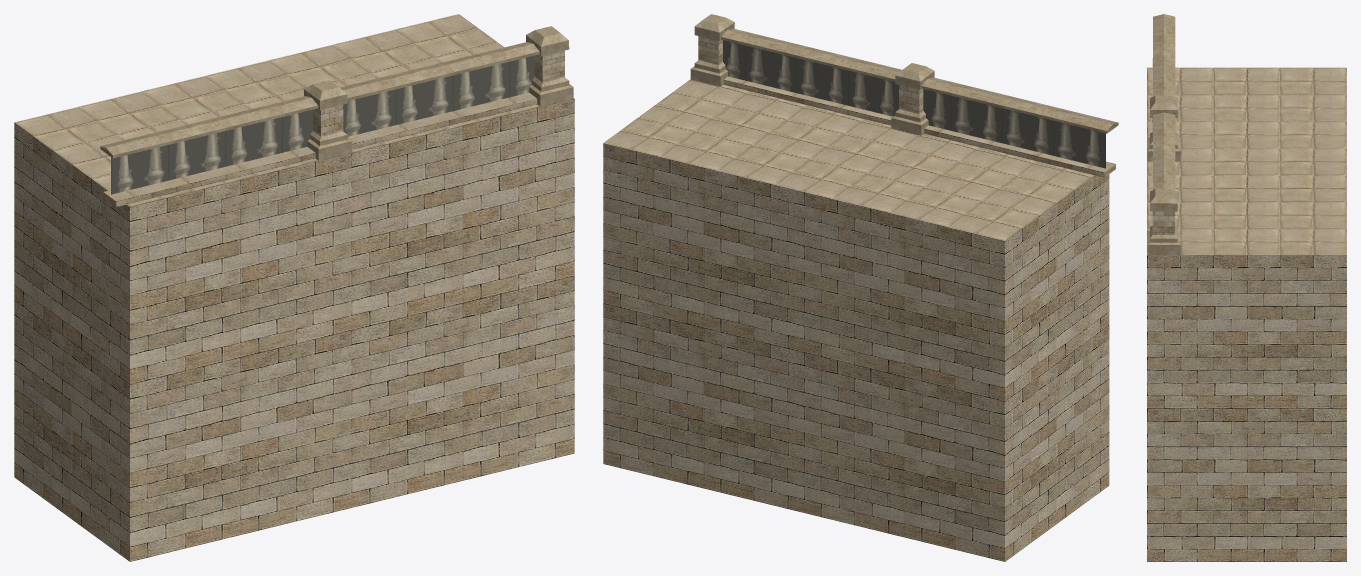
The model's file is thm_nboo_thed_imprv_seawall_straight_s01_l0.fbx.
3 renders of one model, left to right at view 1: azimuth 30°, elevation 25°; view 2: azimuth 150°, elevation 25°; view 3: azimuth 270°, elevation 25°, orthographic. The views are drawn at different scales.
Parts seen in each view (by area): view 1: mesh_node; view 2: mesh_node; view 3: mesh_node.
Boxes of the visible parts, left/top/right/bottom form: mesh_node: left=14, top=14, right=574, bottom=561; mesh_node: left=603, top=14, right=1118, bottom=561; mesh_node: left=1147, top=14, right=1346, bottom=561.
Bounding box in the file's own units: 8.25 × 7.2 × 3.6.
